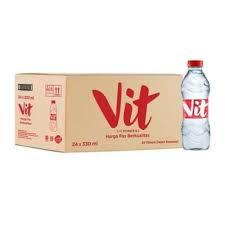BIODEGRADABLE: (176, 52, 216, 154)
